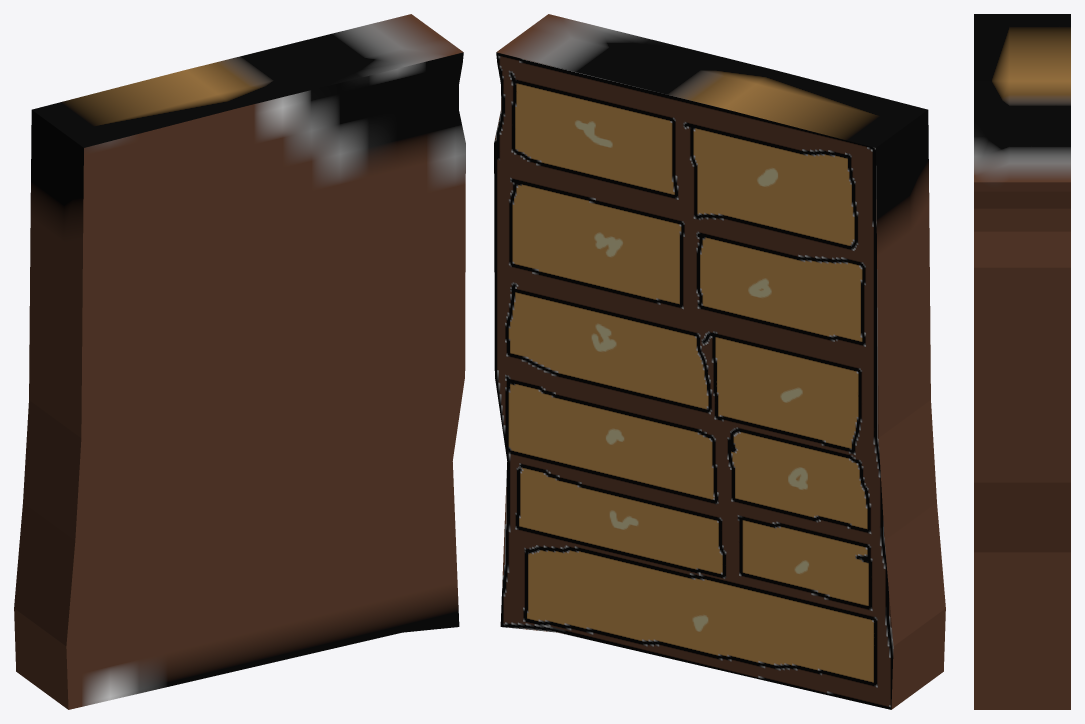
The model's file is cupboardNEW.fbx.
3 renders of one model, left to right at view 1: azimuth 30°, elevation 25°; view 2: azimuth 150°, elevation 25°; view 3: azimuth 270°, elevation 25°, orthographic. The views are drawn at different scales.
Visible parts, largest first — view 1: Cube; view 2: Cube; view 3: Cube.
Boxes of the visible parts, x1,y1,x2,y2 form: Cube: [14, 14, 465, 709]; Cube: [494, 14, 945, 709]; Cube: [974, 14, 1070, 709].
Bounding box in the file's own units: 245 × 337 × 55.68.
